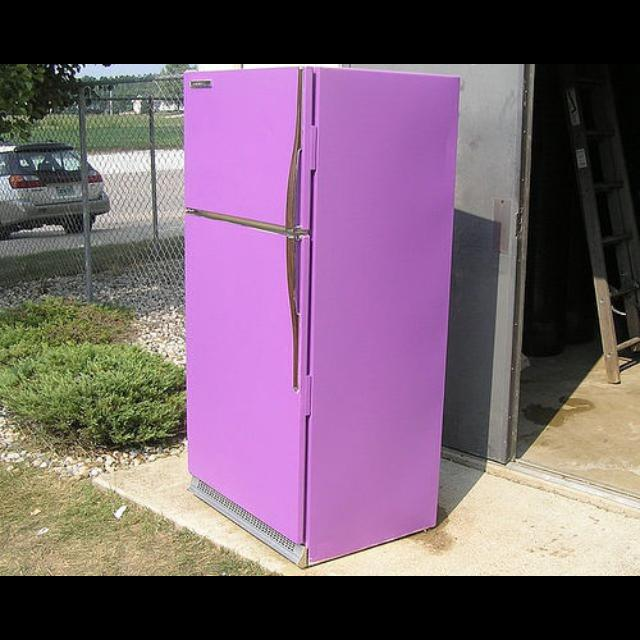Refrigerator: (186, 72, 461, 567)
